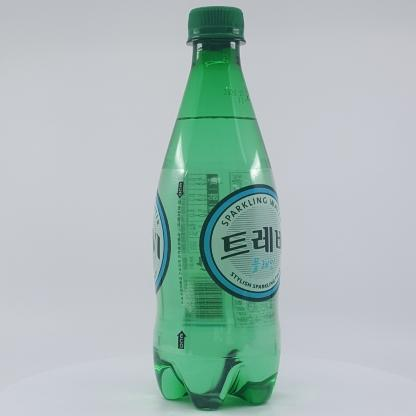---------PET-500ML: (152, 6, 281, 410)
